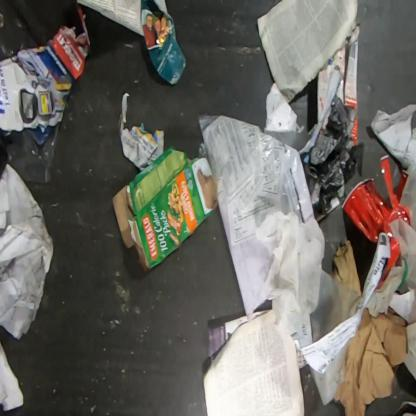cardboard: (111, 146, 217, 274), (317, 20, 360, 147)
rigid_plastic: (342, 154, 410, 271)
soft_plastic: (197, 114, 316, 316), (307, 94, 365, 217), (5, 122, 62, 183), (403, 146, 415, 309)
